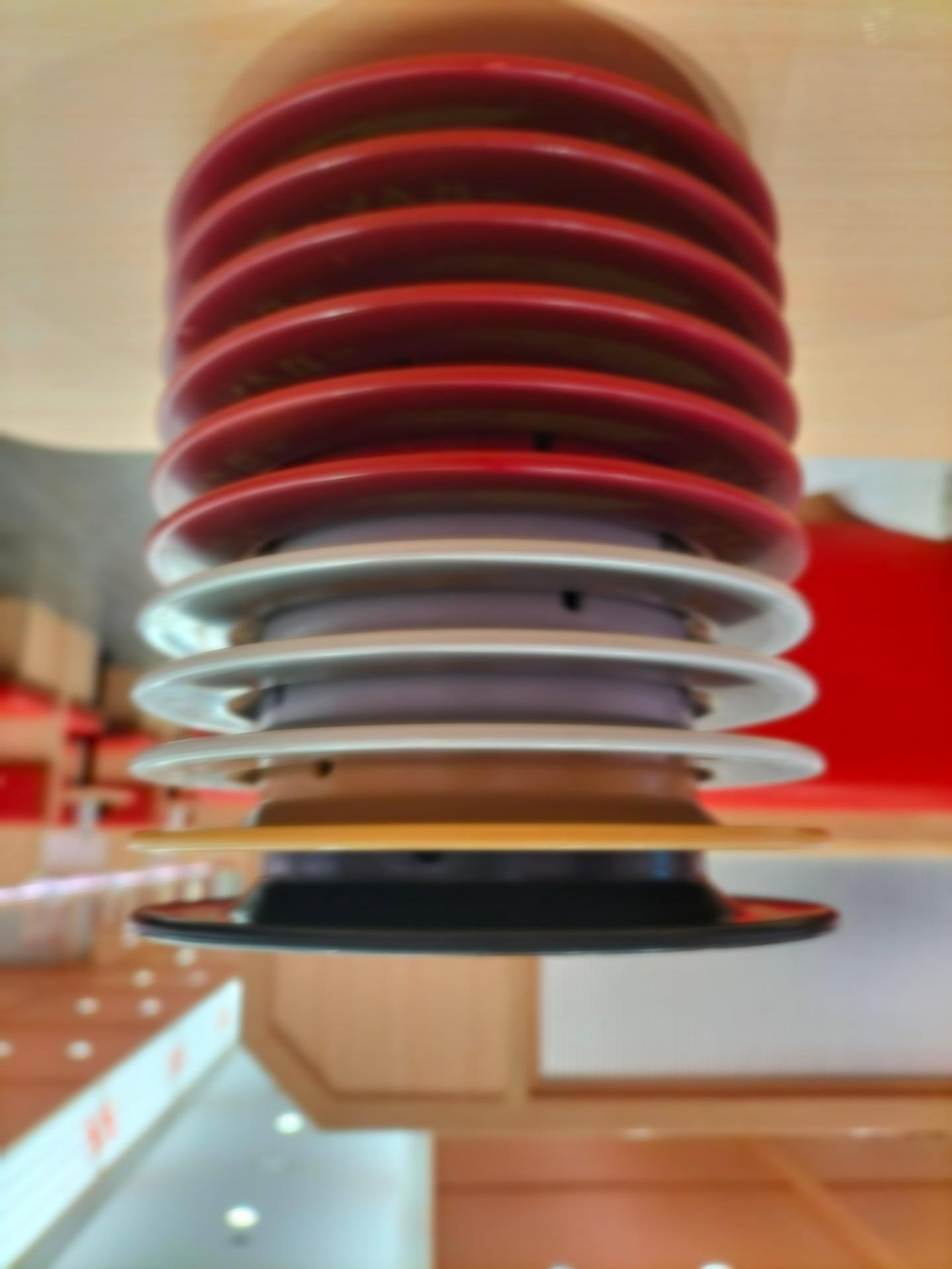Janback: (122, 859, 853, 967)
Jangold: (123, 766, 842, 854)
Janred: (157, 439, 809, 535), (206, 289, 788, 362), (203, 208, 738, 283), (249, 44, 742, 124), (230, 128, 739, 205), (194, 372, 756, 433)
Janwhite: (190, 540, 741, 627), (153, 633, 765, 694), (160, 699, 796, 745)
